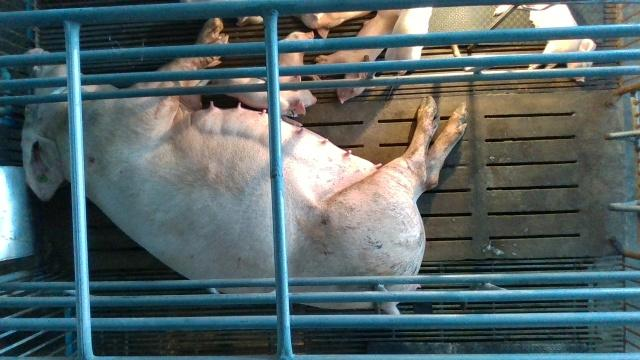piglet: (495, 2, 596, 82), (208, 75, 317, 118), (385, 7, 433, 74), (292, 11, 372, 38), (279, 32, 317, 82)
sow-sleep-lactate: (22, 19, 469, 313)
